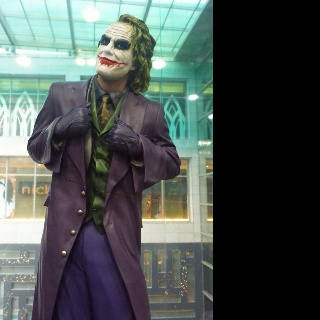without_mask: (95, 21, 133, 77)
